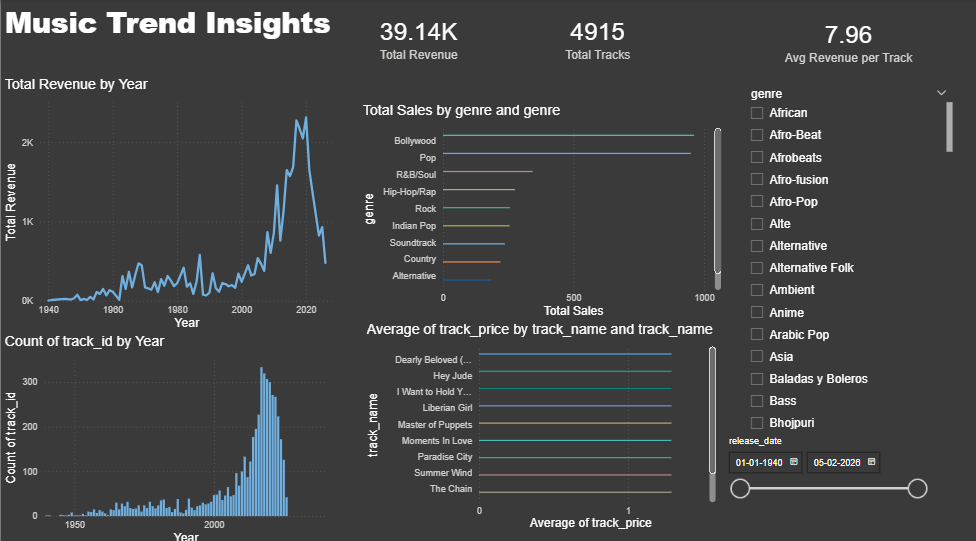

What the dashboard file says about the page in this screenshot:
{"tool":"powerbi","page":{"name":"Page 5","canvas":[1280,720],"ordinal":4},"visuals":[{"type":"slicer","fields":{"Values":["itunes_music_dataset.genre"]},"box":[968.4,110.9,281.7,457.8],"z":0},{"type":"slicer","fields":{"Values":["itunes_music_dataset.release_date"]},"box":[940.2,568.7,281.7,102.1],"z":1000},{"type":"textbox","box":[0,0,1280,110.9],"z":2000},{"type":"lineChart","fields":{"Category":["itunes_music_dataset.release_date.Variation.Date Hierarchy.Year"],"Y":["itunes_music_dataset.Total Revenue"]},"box":[0,102.1,443.7,336.3],"z":3000},{"type":"columnChart","fields":{"Category":["itunes_music_dataset.release_date.Variation.Date Hierarchy.Year"],"Y":["CountNonNull(itunes_music_dataset.track_id)"]},"box":[0,438.4,443.7,281.7],"z":4000},{"type":"clusteredBarChart","fields":{"Category":["itunes_music_dataset.genre"],"Y":["itunes_music_dataset.Total Sales"],"Series":["itunes_music_dataset.genre"]},"box":[468.3,135.6,478.9,287],"z":5000},{"type":"card","fields":{"Values":["itunes_music_dataset.Total Revenue"]},"box":[468.3,0,156.7,102.1],"z":6000},{"type":"card","fields":{"Values":["itunes_music_dataset.Avg Revenue per Track"]},"box":[1019.4,3.5,179.6,102.1],"z":7000},{"type":"card","fields":{"Values":["itunes_music_dataset.Total Tracks"]},"box":[662,0,237.7,102.1],"z":8000},{"type":"clusteredBarChart","fields":{"Category":["itunes_music_dataset.track_name"],"Y":["Avg(itunes_music_dataset.track_price)"],"Series":["itunes_music_dataset.track_name"]},"box":[473.6,422.6,466.6,278.2],"z":9000}]}

Visuals, with their boxes in screenshot pixels (x1, y1, x2, y2), scaled from the page's 1280x720 canvas onto the 976x541 screenshot:
slicer - itunes_music_dataset.genre: bbox=[738, 83, 953, 427]
slicer - itunes_music_dataset.release_date: bbox=[717, 427, 932, 504]
textbox: bbox=[0, 0, 975, 83]
lineChart - itunes_music_dataset.release_date.Variation.Date Hierarchy.Year x itunes_music_dataset.Total Revenue: bbox=[0, 77, 338, 329]
columnChart - itunes_music_dataset.release_date.Variation.Date Hierarchy.Year x CountNonNull(itunes_music_dataset.track_id): bbox=[0, 329, 338, 540]
clusteredBarChart - itunes_music_dataset.genre x itunes_music_dataset.Total Sales: bbox=[357, 102, 722, 318]
card - itunes_music_dataset.Total Revenue: bbox=[357, 0, 477, 77]
card - itunes_music_dataset.Avg Revenue per Track: bbox=[777, 3, 914, 79]
card - itunes_music_dataset.Total Tracks: bbox=[505, 0, 686, 77]
clusteredBarChart - itunes_music_dataset.track_name x Avg(itunes_music_dataset.track_price): bbox=[361, 318, 717, 527]
